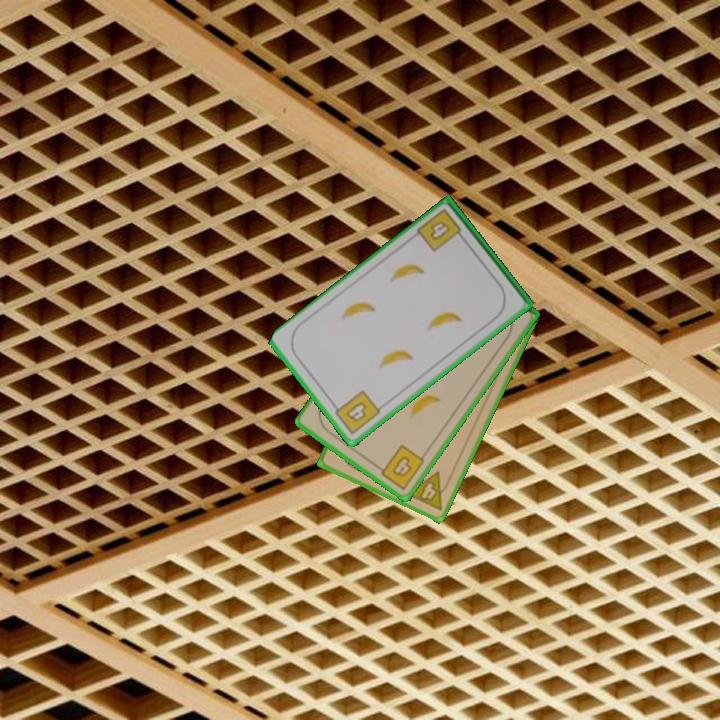4b: (373, 441, 428, 493), (329, 387, 383, 438), (414, 205, 468, 255)
4p: (402, 468, 454, 513)
